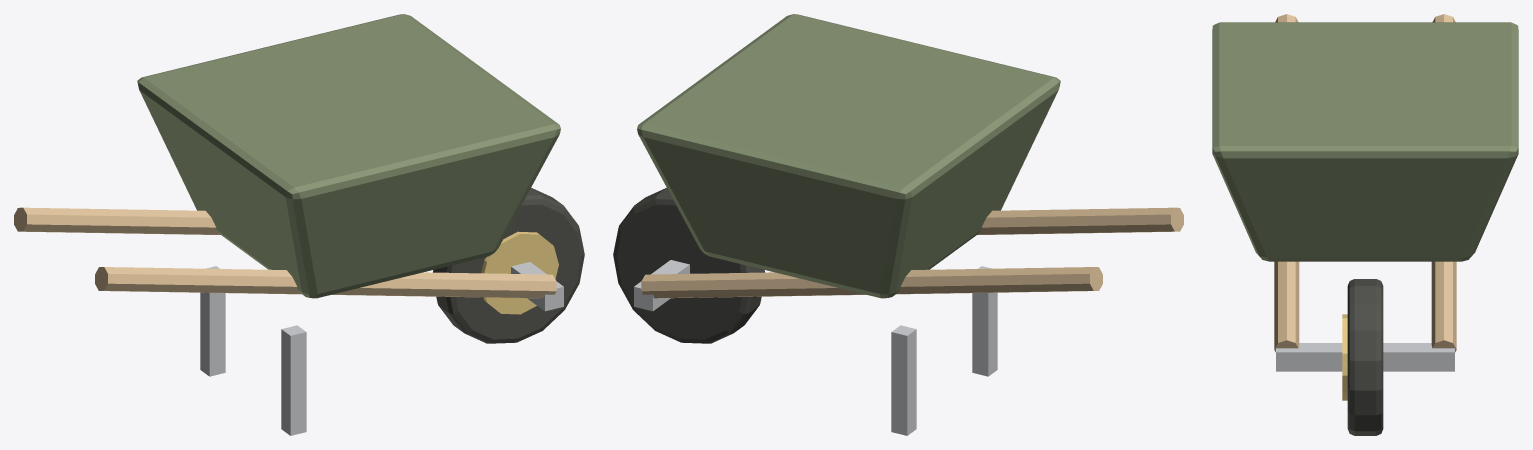
The model's file is carrinho.glb.
3 views of the same model, side by side, from view 1: azimuth 30°, elevation 25°; view 2: azimuth 150°, elevation 25°; view 3: azimuth 270°, elevation 25° (orthographic). The views are drawn at different scales.
Parts seen in each view (by area): view 1: agro_carrinho_00; view 2: agro_carrinho_00; view 3: agro_carrinho_00.
Part boxes in pixels (x1,y1,x2,y2): agro_carrinho_00: (14, 14, 584, 435); agro_carrinho_00: (613, 14, 1183, 435); agro_carrinho_00: (1212, 14, 1518, 435).
Size of the model in its own units: 1.63 by 0.83 by 0.8577.
